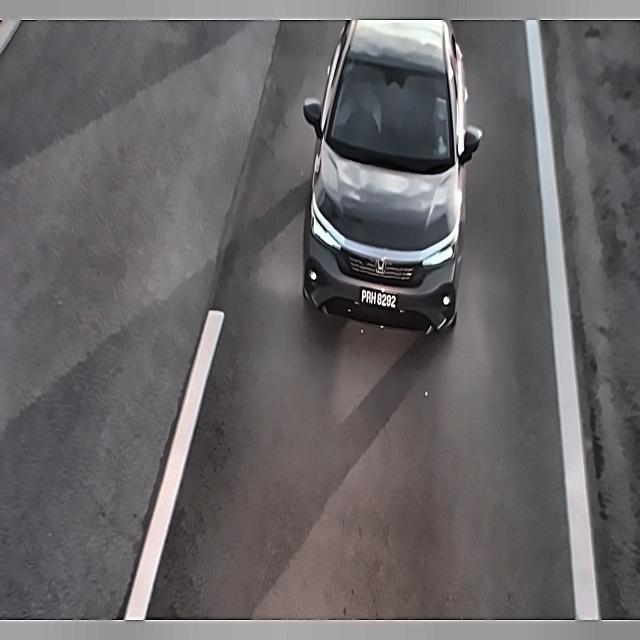car: (356, 278, 398, 319)
